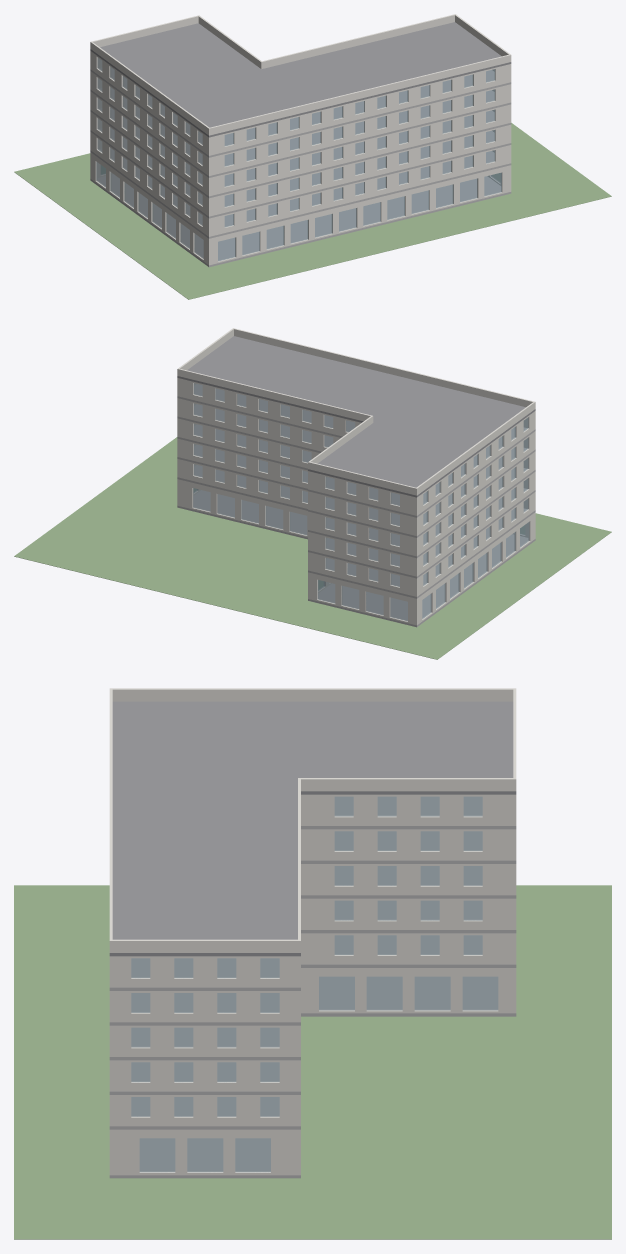
3 views of the same model, one above another, from view 1: azimuth 30°, elevation 25°; view 2: azimuth 150°, elevation 25°; view 3: azimuth 270°, elevation 25° (orthographic). The views are drawn at different scales.
Visible parts, largest first — view 1: Site, Roof slab, GF slab, L1 ext wall 1, L3 ext wall 1, L2 ext wall 1, L4 ext wall 1, L5 ext wall 1, GF ext wall 1, L3 slab, L4 slab, L2 slab (+14 smaller); view 2: Site, Roof slab, GF slab, L5 ext wall 3, Parapet 1, L5 slab, L4 ext wall 3, L4 slab, L3 slab, L1 slab, L2 slab, GF ext wall 6 (+20 smaller); view 3: Site, Roof slab, GF slab, GF ext wall 2, Parapet 6, L1 ext wall 4, L4 ext wall 4, L5 ext wall 4, L2 ext wall 4, L3 ext wall 4, GF ext wall 4, L2 ext wall 2 (+19 smaller).
Boxes of the visible parts, left/top/right/bottom form: Site: left=14, top=123, right=611, bottom=299; Roof slab: left=90, top=22, right=511, bottom=137; GF slab: left=90, top=174, right=511, bottom=267; L1 ext wall 1: left=209, top=145, right=511, bottom=236; L3 ext wall 1: left=209, top=104, right=511, bottom=196; L2 ext wall 1: left=209, top=124, right=511, bottom=216; L4 ext wall 1: left=209, top=84, right=511, bottom=175; L5 ext wall 1: left=209, top=64, right=511, bottom=155; GF ext wall 1: left=209, top=165, right=511, bottom=265; L3 slab: left=90, top=108, right=511, bottom=198; L4 slab: left=90, top=88, right=511, bottom=177; L2 slab: left=90, top=128, right=511, bottom=218; Site: left=14, top=437, right=611, bottom=659; Roof slab: left=177, top=336, right=535, bottom=497; GF slab: left=177, top=490, right=535, bottom=627; L5 ext wall 3: left=177, top=378, right=361, bottom=436; Parapet 1: left=233, top=328, right=535, bottom=407; L5 slab: left=177, top=384, right=535, bottom=517; L4 ext wall 3: left=177, top=398, right=340, bottom=451; L4 slab: left=177, top=404, right=535, bottom=537; L3 slab: left=177, top=424, right=535, bottom=558; L1 slab: left=177, top=465, right=535, bottom=598; L2 slab: left=177, top=445, right=535, bottom=578; GF ext wall 6: left=417, top=512, right=535, bottom=624; Site: left=14, top=885, right=611, bottom=1239; Roof slab: left=109, top=701, right=516, bottom=956; GF slab: left=109, top=977, right=516, bottom=1178; GF ext wall 2: left=109, top=1129, right=300, bottom=1175; Parapet 6: left=110, top=688, right=515, bottom=701; L1 ext wall 4: left=301, top=933, right=516, bottom=964; L4 ext wall 4: left=301, top=829, right=516, bottom=860; L5 ext wall 4: left=301, top=794, right=516, bottom=825; L2 ext wall 4: left=301, top=898, right=516, bottom=929; L3 ext wall 4: left=301, top=864, right=516, bottom=895; GF ext wall 4: left=301, top=968, right=516, bottom=1013; L2 ext wall 2: left=109, top=1060, right=300, bottom=1091.
Size of what is drawn, in the model's own units: 70 by 21.95 by 50.
